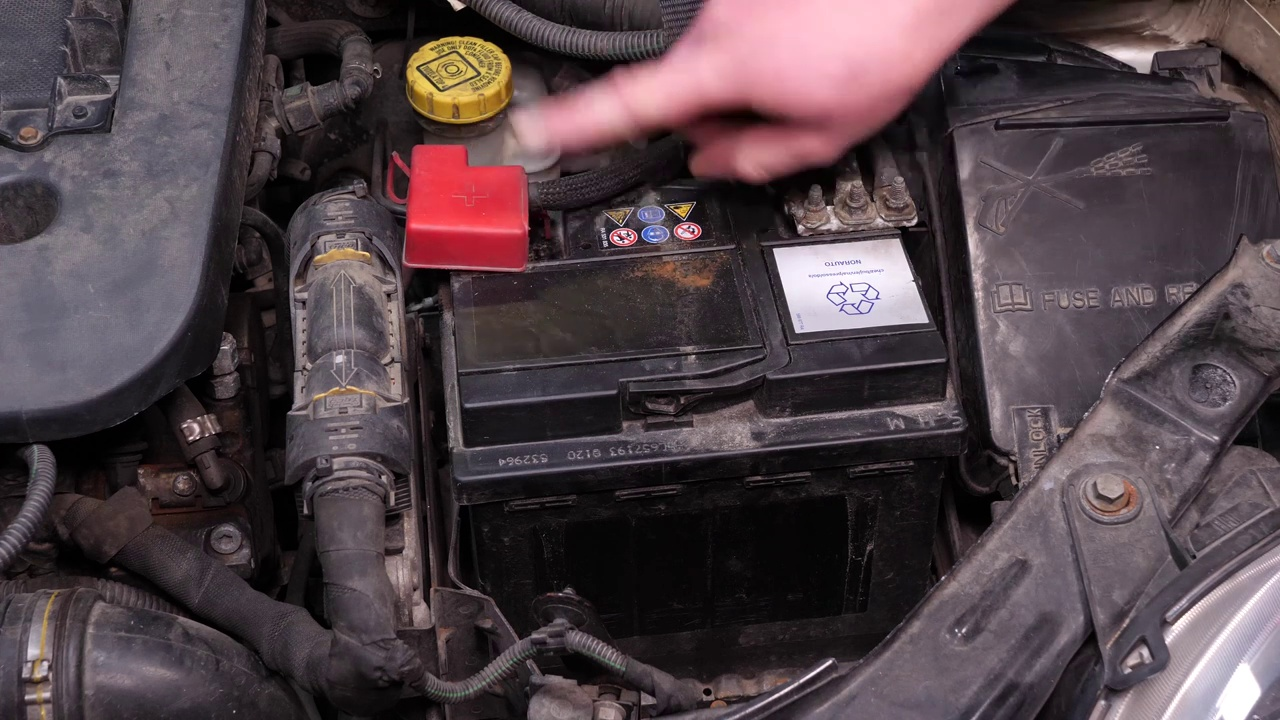battery: (403, 127, 955, 397)
neg_connected: (773, 157, 926, 245)
neg_touched: (746, 49, 951, 262)
pos_connected: (392, 137, 534, 273)
